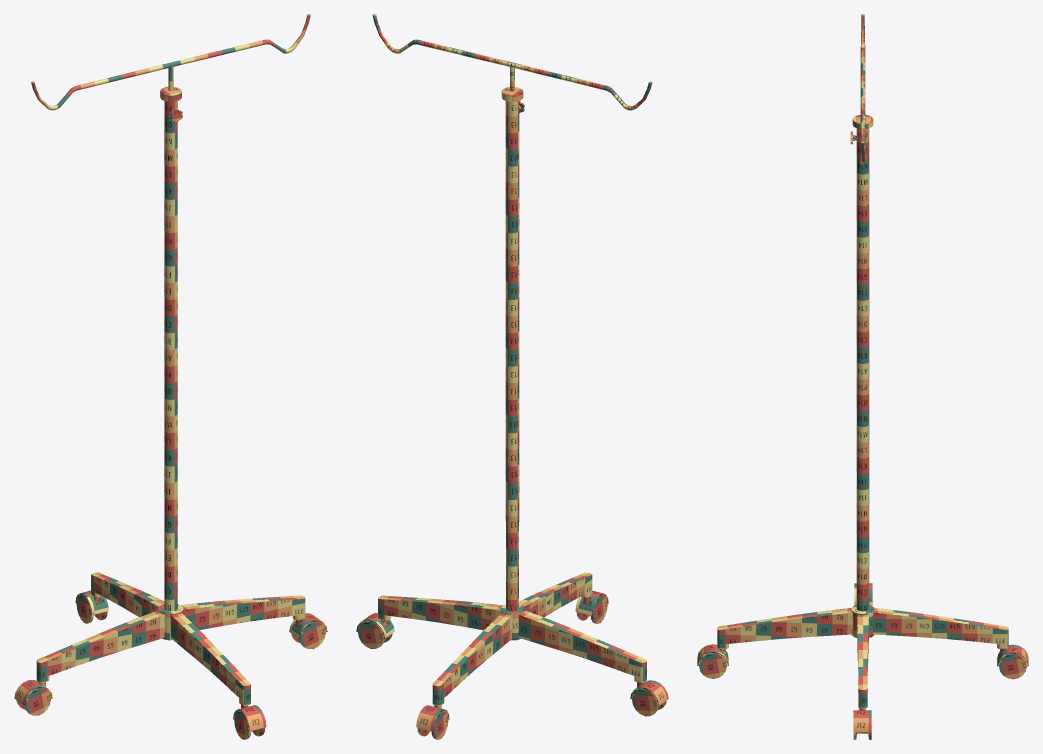
Rendered from SM_IVStand_01a.fbx.
3 renders of one model, left to right at view 1: azimuth 30°, elevation 25°; view 2: azimuth 150°, elevation 25°; view 3: azimuth 270°, elevation 25°, orthographic. The views are drawn at different scales.
Visible parts, largest first — view 1: SM_IVStand_01a; view 2: SM_IVStand_01a; view 3: SM_IVStand_01a.
Boxes of the visible parts, x1=… form: SM_IVStand_01a: x1=14, y1=14, x2=327, y2=739; SM_IVStand_01a: x1=356, y1=14, x2=668, y2=739; SM_IVStand_01a: x1=697, y1=14, x2=1028, y2=739.
Size of the model in its own units: 103 by 204 by 103.
1 material, 1 textured.
